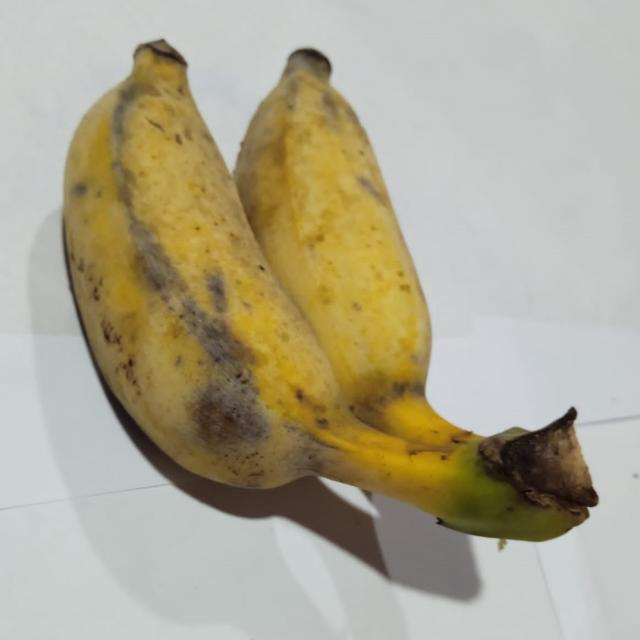banana: (64, 41, 594, 540), (235, 49, 475, 445)
